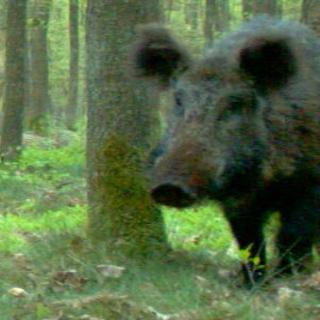Pig: (132, 0, 320, 270)
